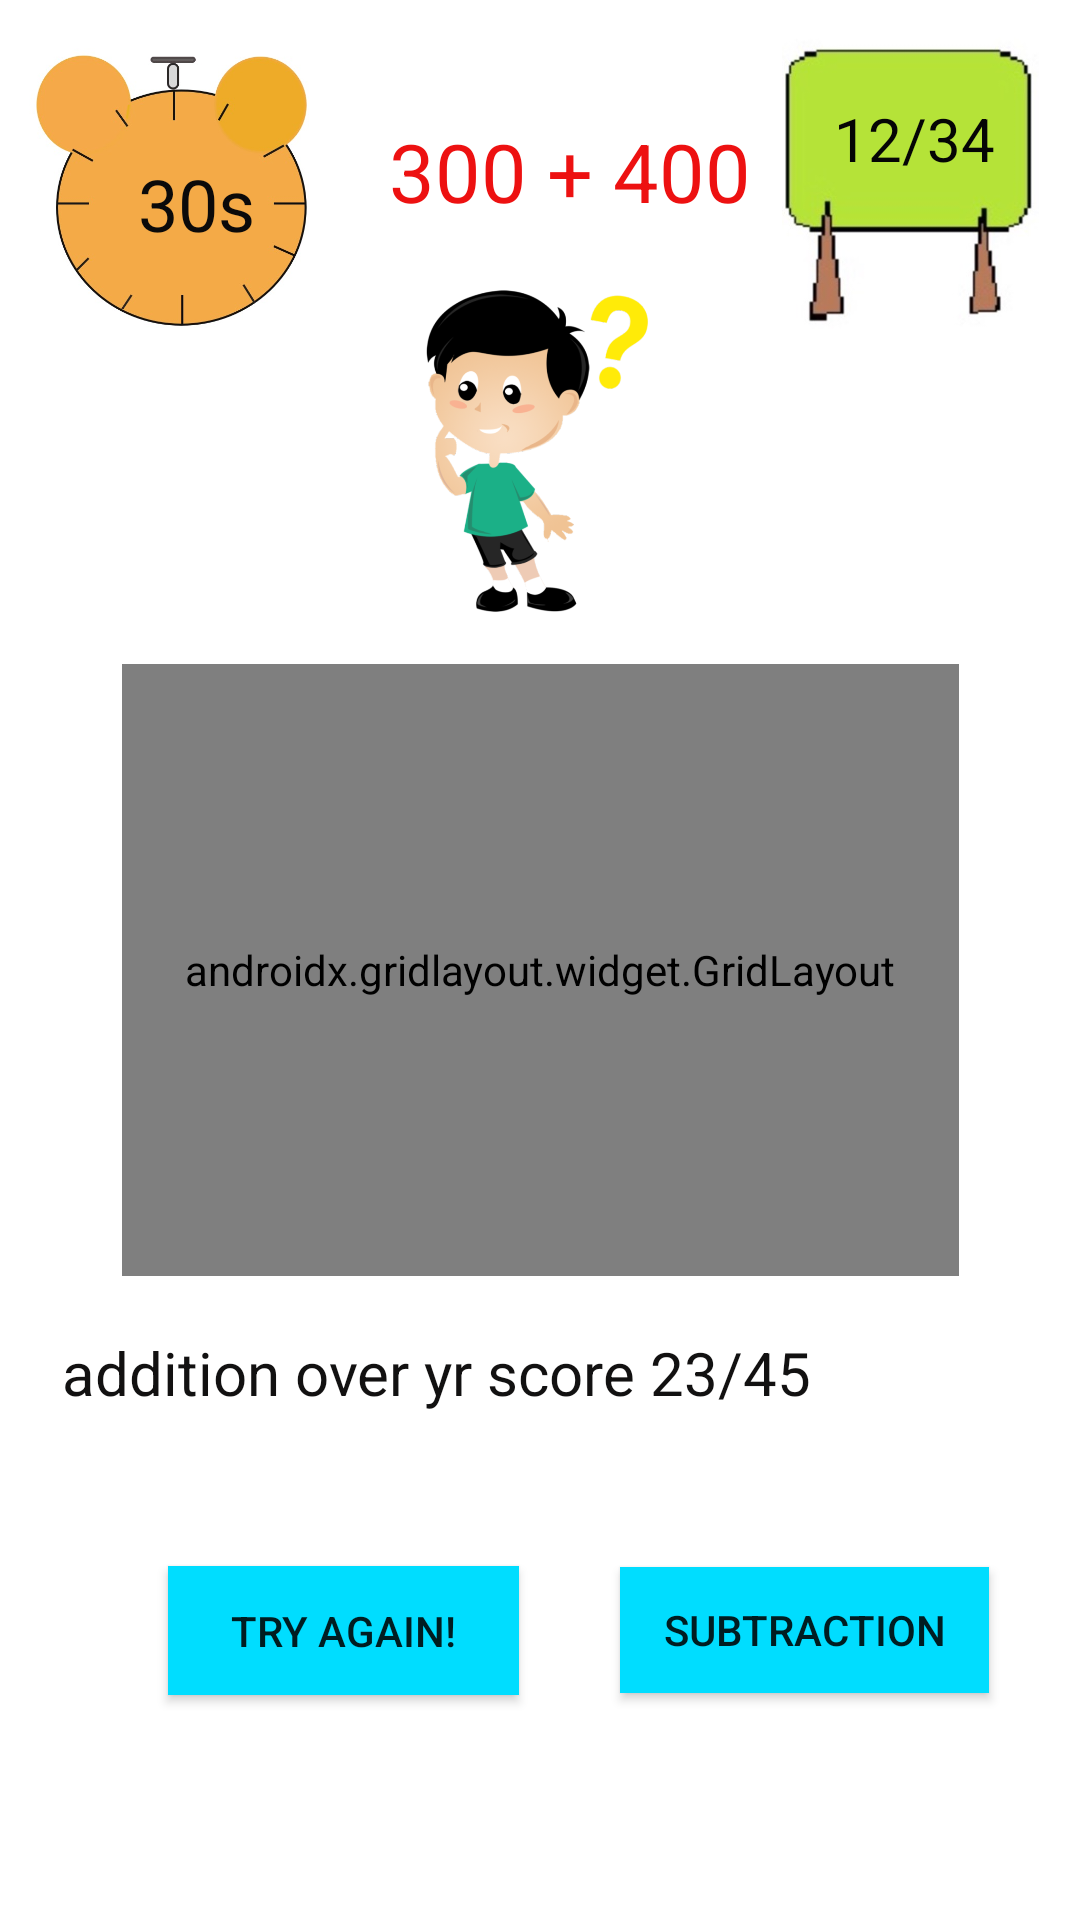

Named icons in this screenshot (1080 × 1920) and their centers, (x,y):
clock: (171,190)
